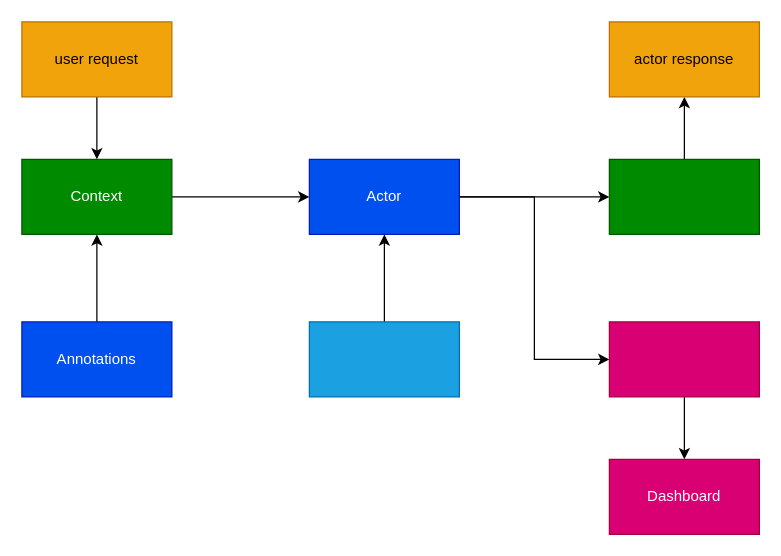
Image size: 781x556. Some labels were removed from this diagram. Here are the shapes that lost their labels. From the top down, the centre of each, then its label:
At point 683,196: "*Context".
At point 383,359: "Plot".
At point 683,359: "Stats".
